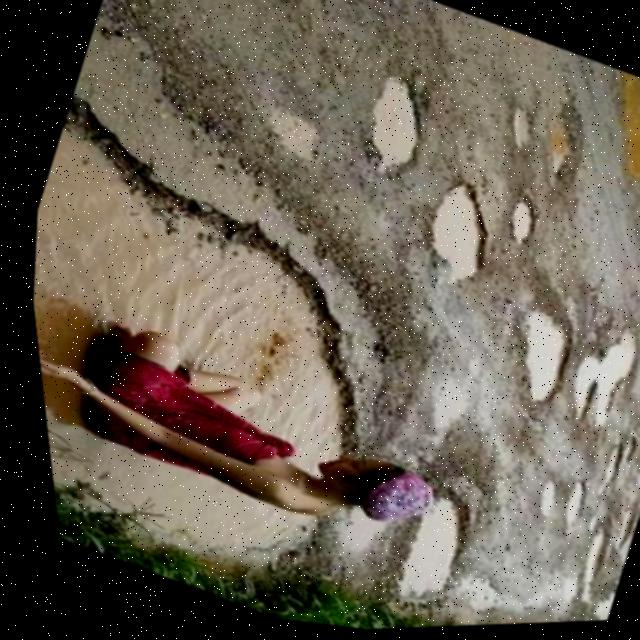Pothole: (8, 76, 488, 640), (339, 146, 527, 344), (317, 47, 467, 221), (359, 478, 486, 631), (478, 290, 591, 432), (534, 309, 640, 451), (519, 99, 612, 211), (547, 527, 604, 612), (488, 94, 552, 168), (572, 439, 623, 515), (537, 476, 586, 554), (505, 469, 560, 535), (490, 195, 547, 255), (311, 0, 407, 24), (601, 431, 635, 485)
